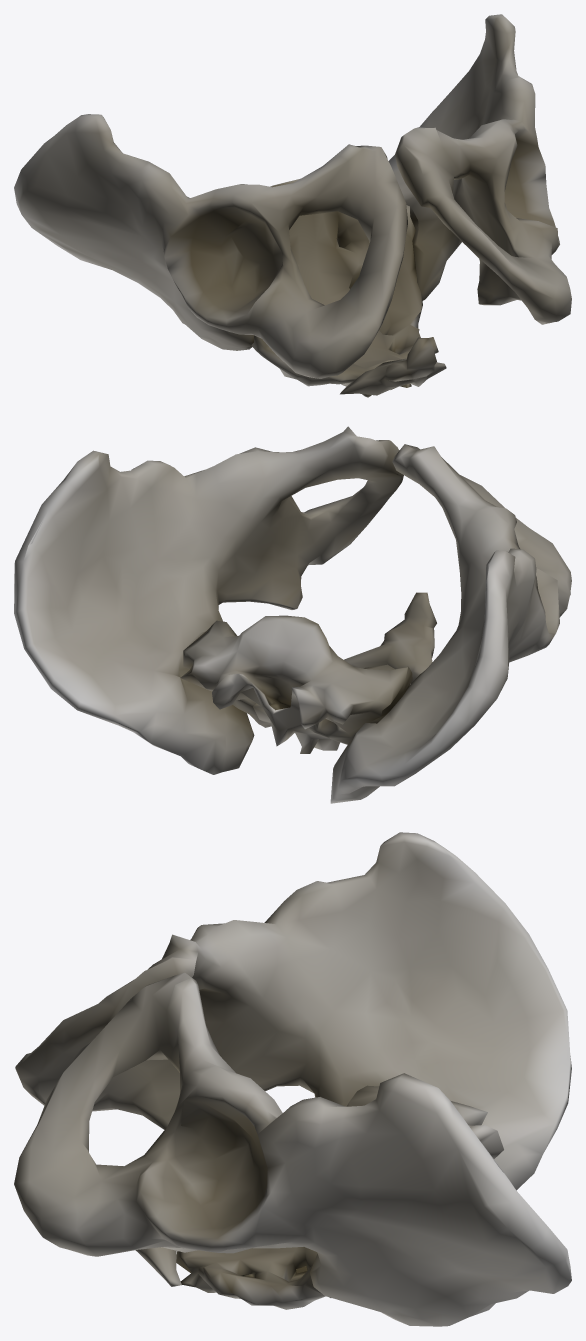
3 views of the same model, one above another, from view 1: azimuth 30°, elevation 25°; view 2: azimuth 150°, elevation 25°; view 3: azimuth 270°, elevation 25° (orthographic). The views are drawn at different scales.
Parts seen in each view (by area): view 1: alt355; view 2: alt355; view 3: alt355.
Boxes of the visible parts, bbox=[...] form: alt355: bbox=[14, 14, 571, 397]; alt355: bbox=[14, 426, 571, 803]; alt355: bbox=[14, 832, 571, 1326].
Bounding box in the file's own units: 0.5 × 0.2724 × 0.4055.
